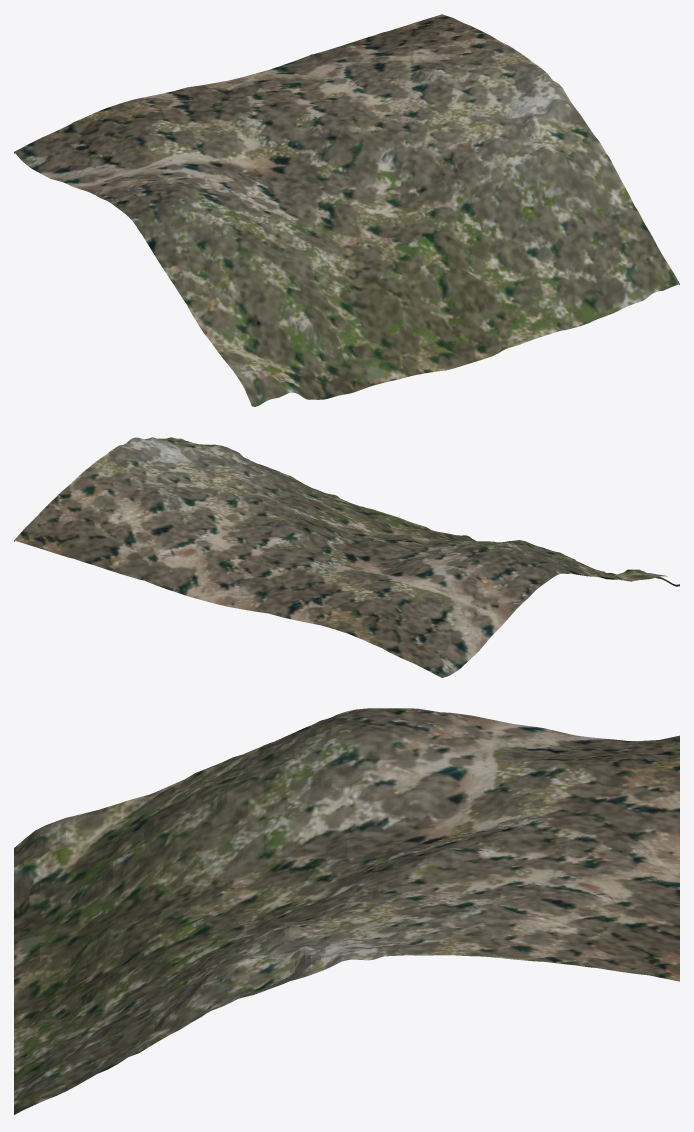
3 views of the same model, one above another, from view 1: azimuth 30°, elevation 25°; view 2: azimuth 150°, elevation 25°; view 3: azimuth 270°, elevation 25° (orthographic). The views are drawn at different scales.
Size of the model in its own units: 250 by 81.36 by 241.
Materials: 1 (1 with a texture image).
